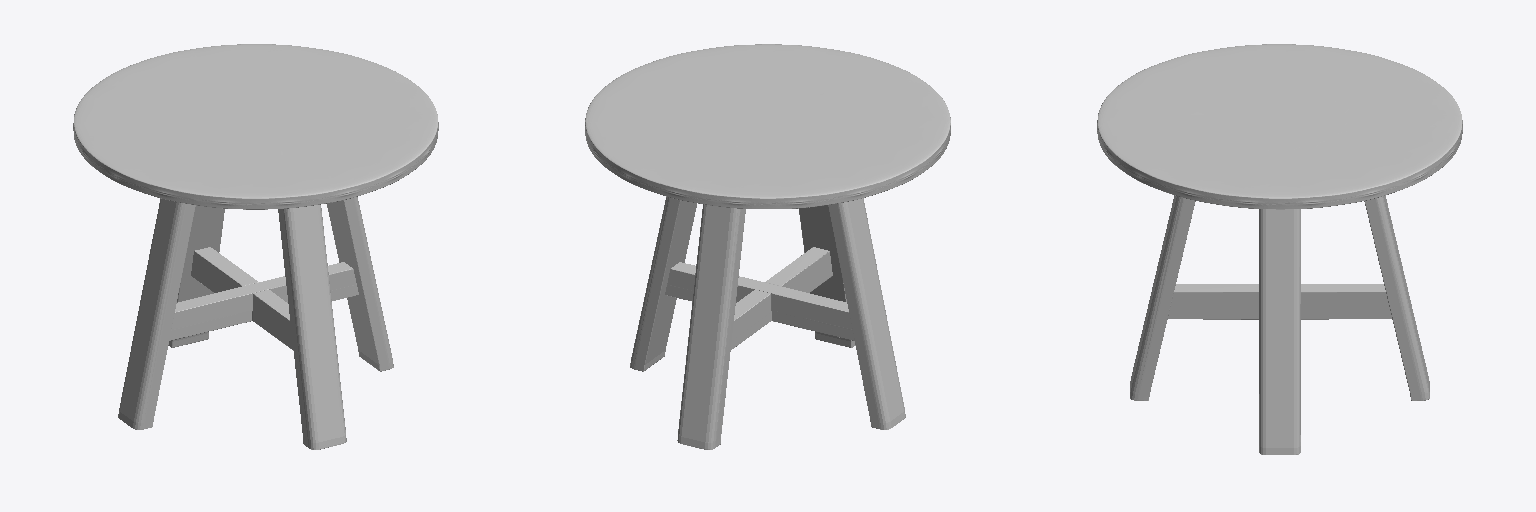
Rendered from Table round.obj.
3 views of the same model, side by side, from view 1: azimuth 30°, elevation 25°; view 2: azimuth 150°, elevation 25°; view 3: azimuth 270°, elevation 25° (orthographic).
Visible parts, largest first — view 1: Layer_AFUTL_3_TPWD, Layer_AFUTL_3_LGWD; view 2: Layer_AFUTL_3_TPWD, Layer_AFUTL_3_LGWD; view 3: Layer_AFUTL_3_TPWD, Layer_AFUTL_3_LGWD.
Boxes of the visible parts, box(x1,y1,x2,y2) form: Layer_AFUTL_3_TPWD: box(73, 44, 438, 209); Layer_AFUTL_3_LGWD: box(118, 197, 393, 449); Layer_AFUTL_3_TPWD: box(585, 44, 950, 208); Layer_AFUTL_3_LGWD: box(630, 197, 905, 449); Layer_AFUTL_3_TPWD: box(1097, 44, 1462, 209); Layer_AFUTL_3_LGWD: box(1130, 195, 1429, 454).
Size of the model in its own units: 237 by 195 by 237.